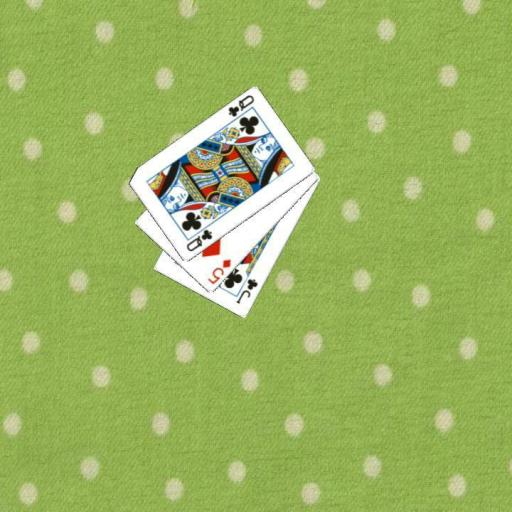card-corner: (204, 256, 233, 286), (233, 276, 260, 306), (183, 226, 213, 253), (225, 92, 255, 118)
